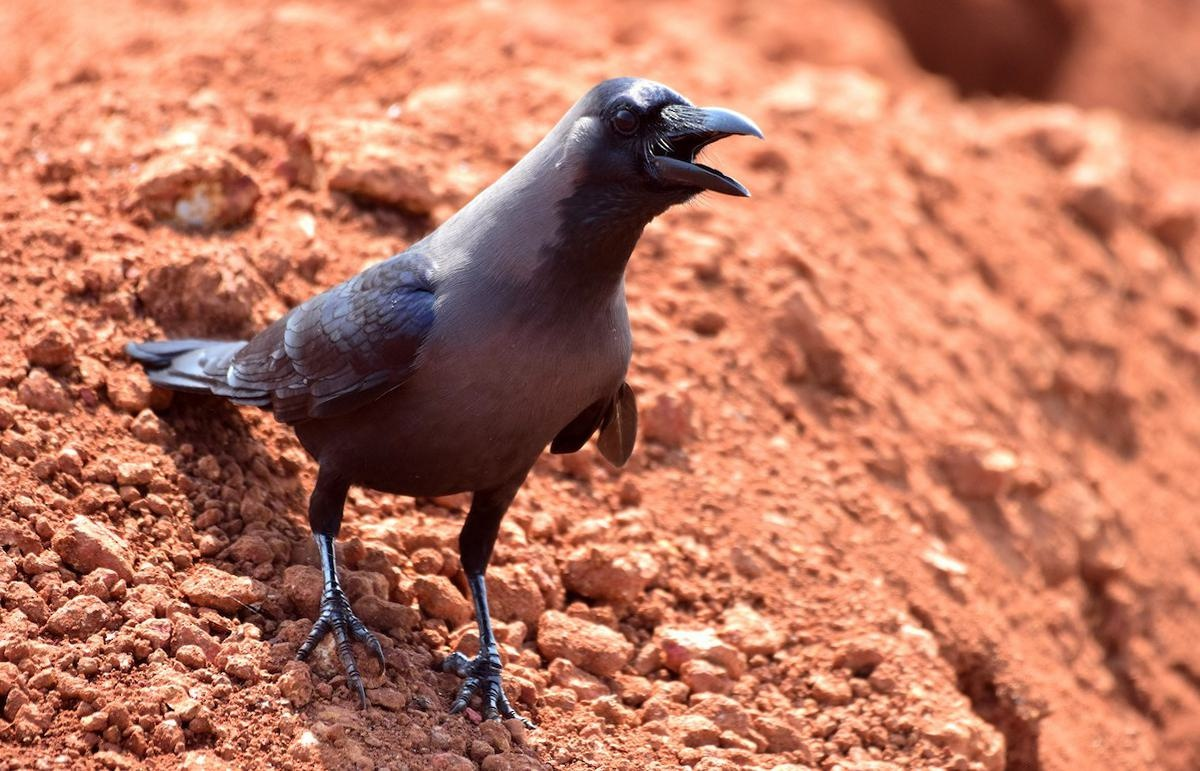crow: (127, 67, 770, 713)
